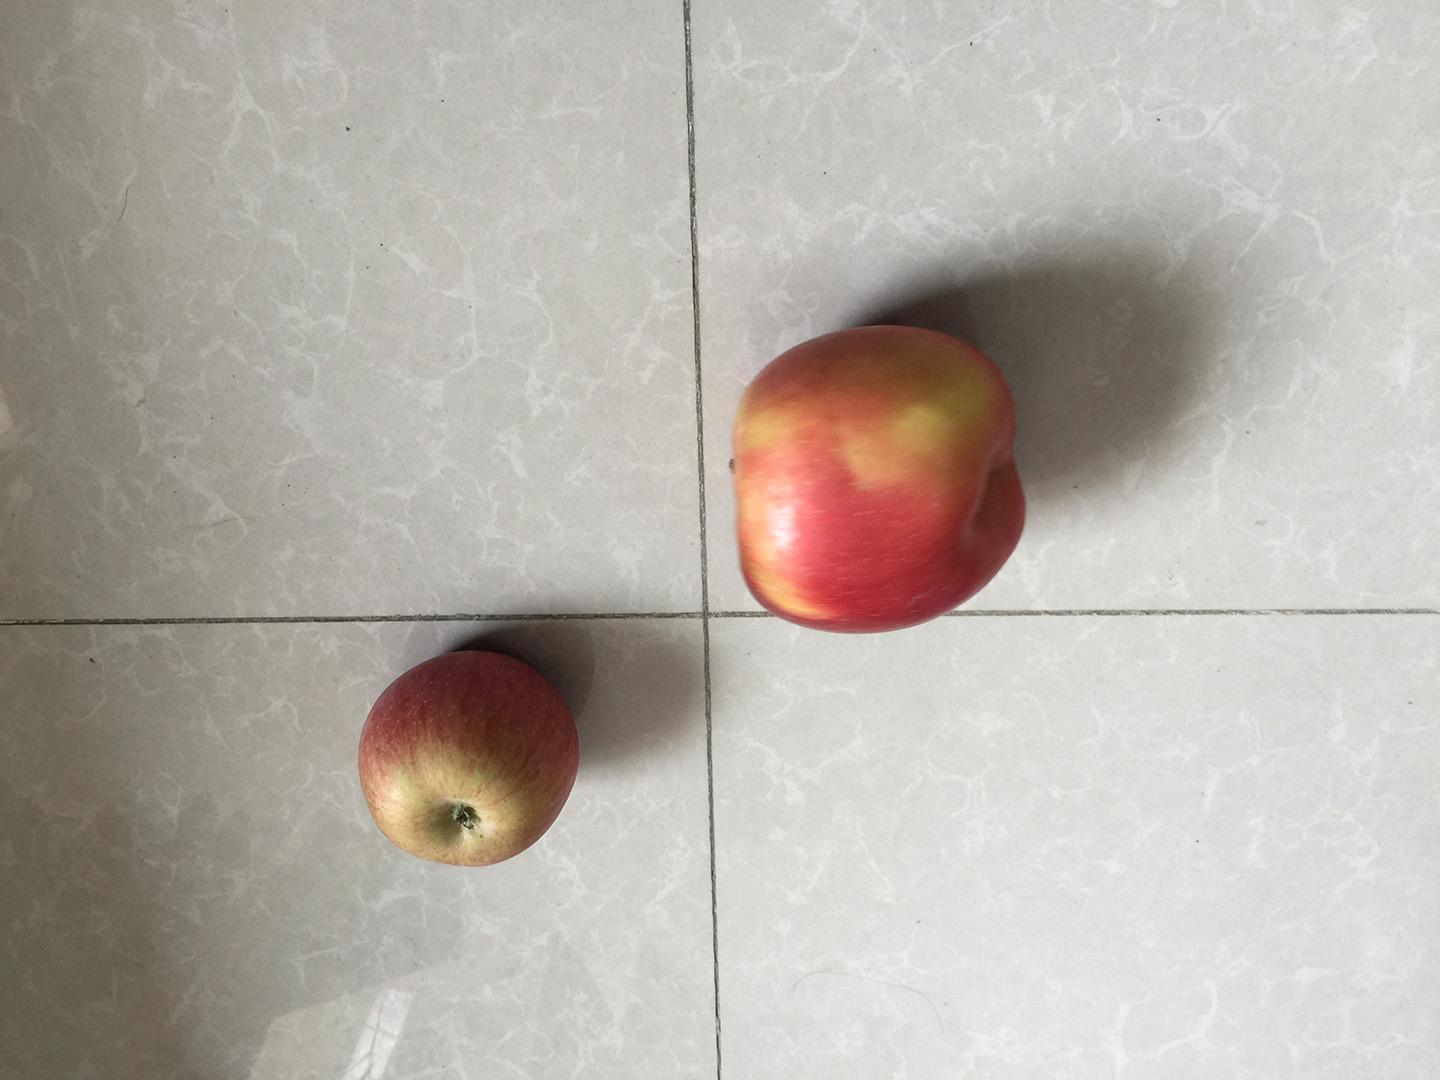apple: (722, 319, 1033, 641), (349, 639, 591, 877)
